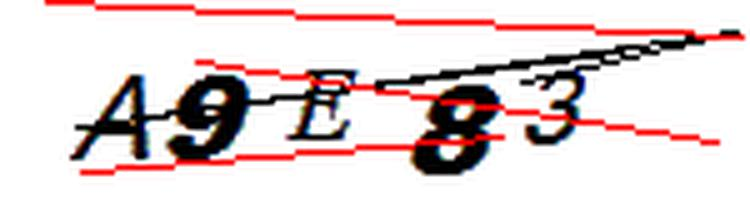3: (520, 66, 596, 152)
8: (404, 80, 504, 183)
9: (163, 67, 252, 166)
A: (62, 67, 163, 170)
E: (280, 63, 369, 150)
